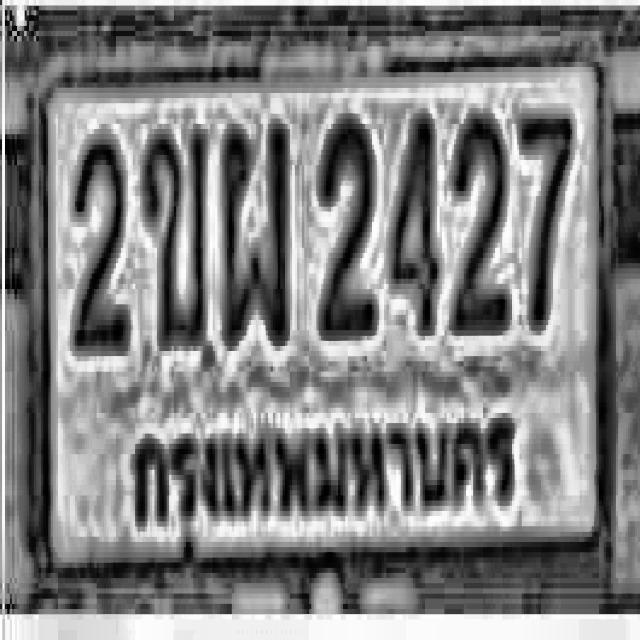license-plate: (29, 51, 613, 602)
